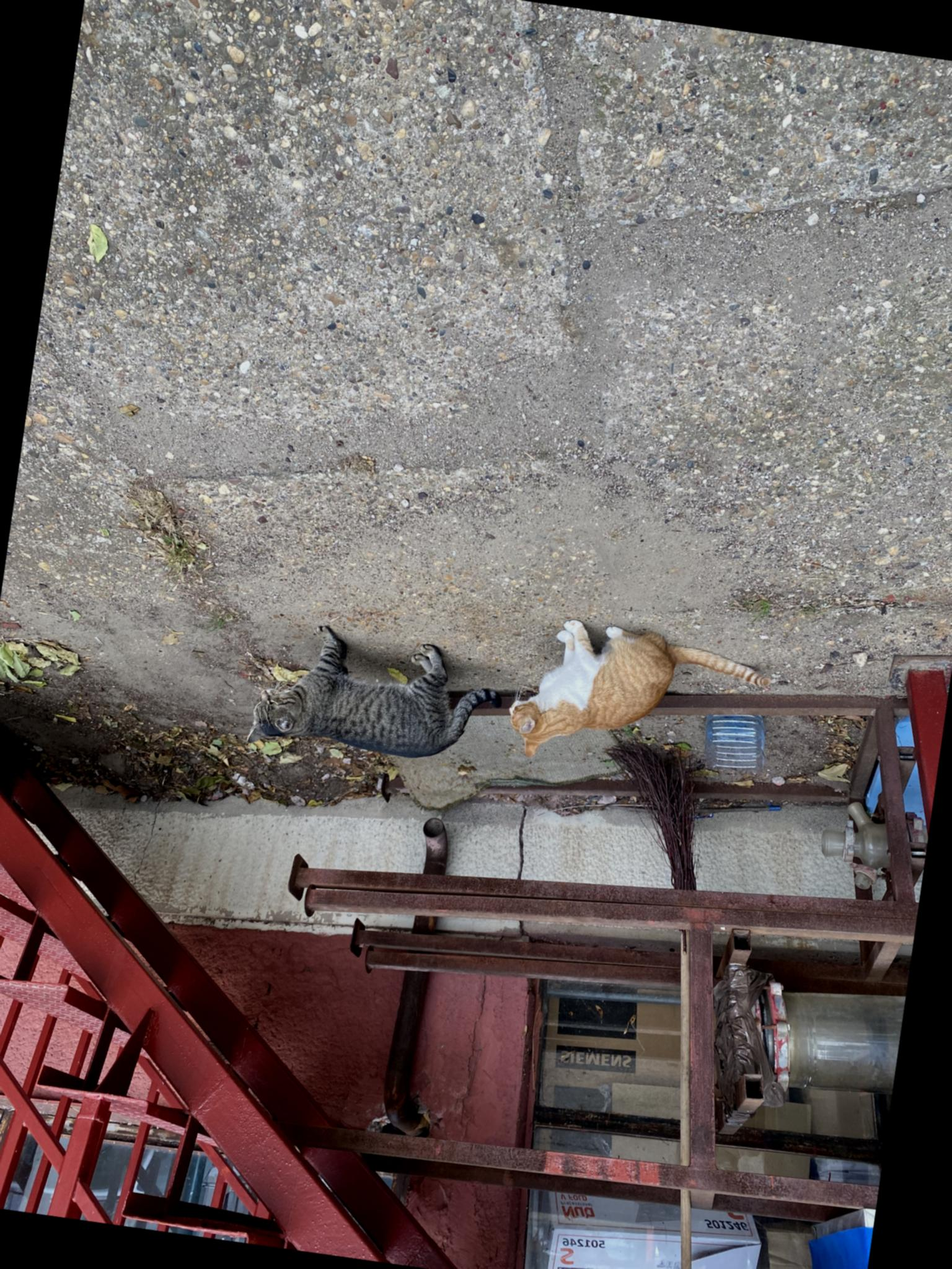macka: (503, 612, 775, 788), (246, 616, 509, 776)
